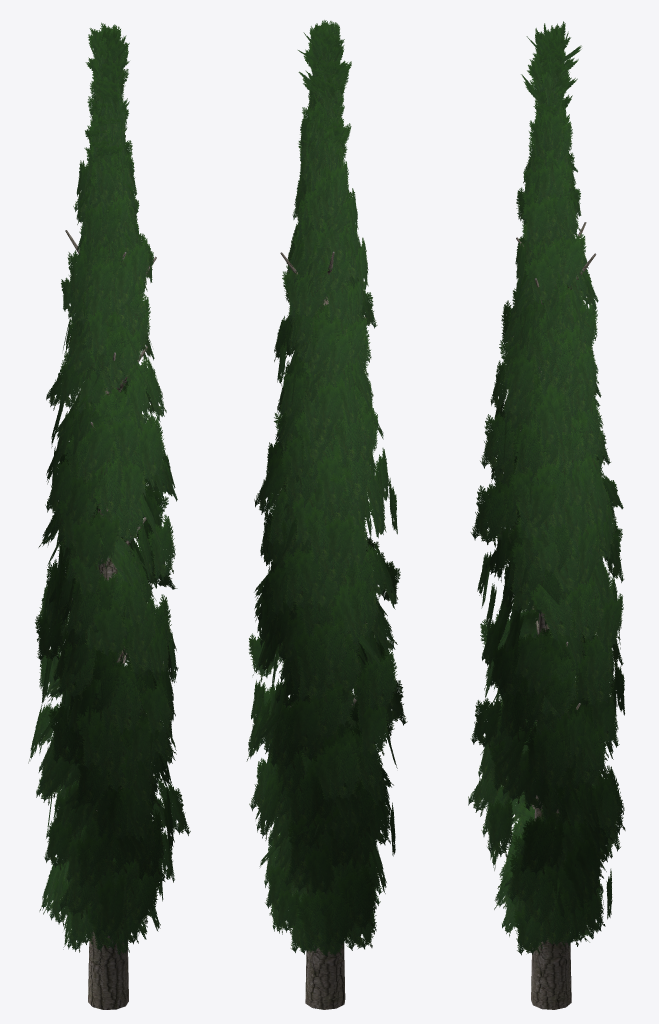
The model's file is cypress_tree.glb.
3 renders of one model, left to right at view 1: azimuth 30°, elevation 25°; view 2: azimuth 150°, elevation 25°; view 3: azimuth 270°, elevation 25°, orthographic.
Parts seen in each view (by area): view 1: cypress_leaves, cypress_trunk; view 2: cypress_leaves, cypress_trunk; view 3: cypress_leaves, cypress_trunk.
Boxes of the visible parts, box(x1,y1,x2,y2) form: cypress_leaves: box(28, 22, 190, 956); cypress_trunk: box(65, 230, 156, 1009); cypress_leaves: box(246, 20, 407, 956); cypress_trunk: box(280, 251, 367, 1009); cypress_leaves: box(468, 21, 625, 955); cypress_trunk: box(513, 222, 596, 1009).
Bounding box in the file's own units: 2.24 × 12.6 × 2.25.
Materials: 2 (2 with a texture image).
